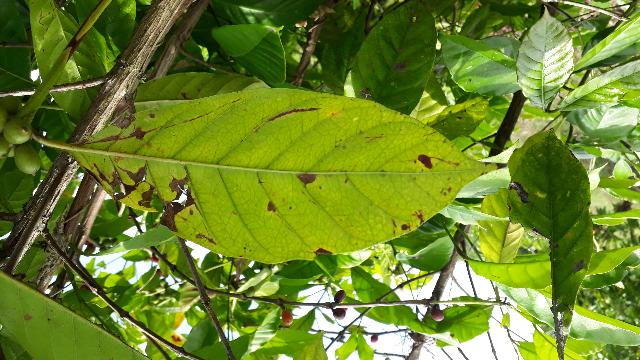rust_level_1: (72, 91, 507, 268)
